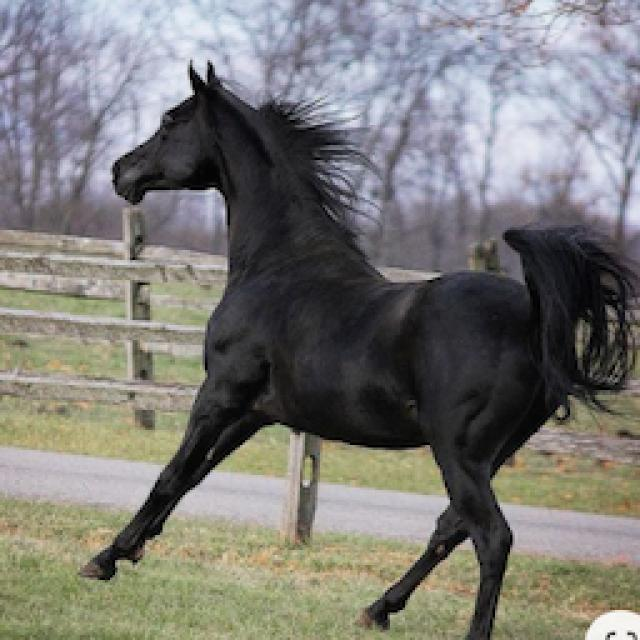Horse: (72, 55, 638, 638)
